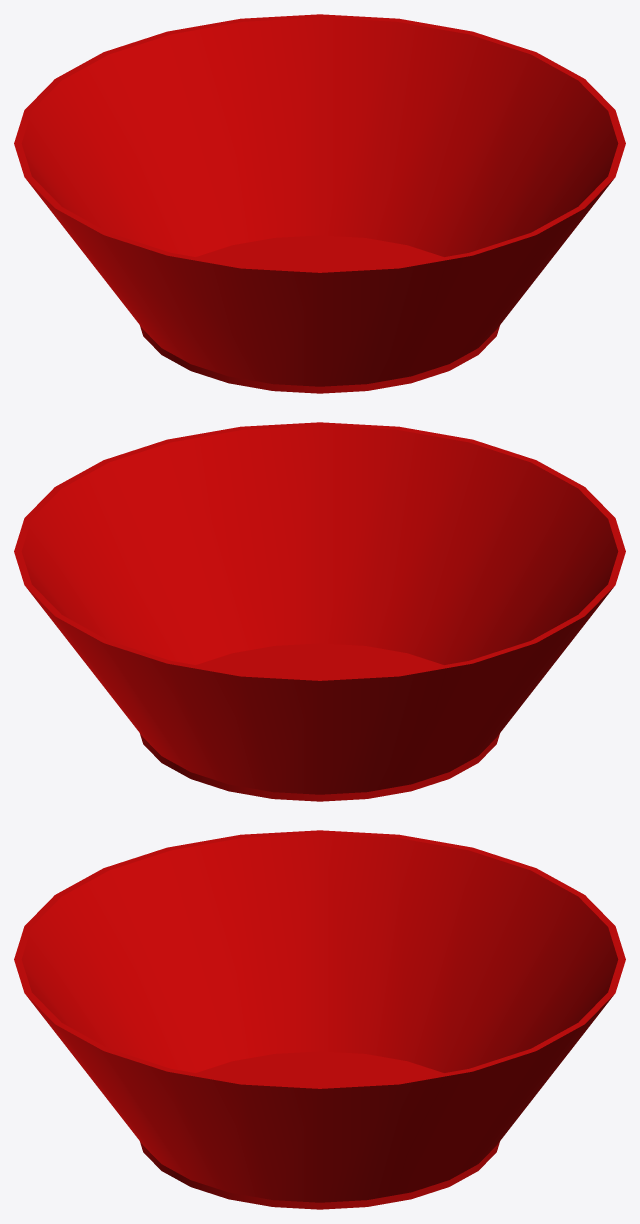
Rendered from bowl.dae.
3 renders of one model, top to bottom at view 1: azimuth 30°, elevation 25°; view 2: azimuth 150°, elevation 25°; view 3: azimuth 270°, elevation 25°, orthographic.
Parts seen in each view (by area): view 1: Bowl (×2); view 2: Bowl (×2); view 3: Bowl (×2).
Part boxes in pixels (<box>): Bowl (×2): <box>14,14,625,393</box>; Bowl (×2): <box>14,422,625,801</box>; Bowl (×2): <box>14,830,625,1209</box>.
Bounding box in the file's own units: 20.07 × 20.07 × 6.25.
